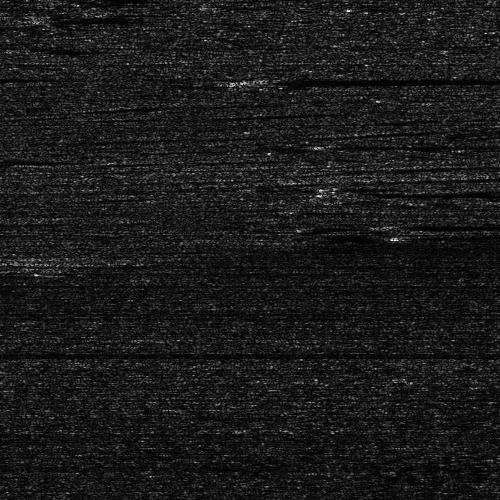rock: (292, 187, 407, 196), (373, 232, 456, 239), (20, 16, 61, 19)
shadow: (350, 187, 500, 196), (415, 232, 500, 239), (0, 73, 60, 80), (41, 16, 129, 19)
